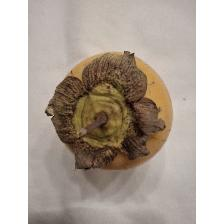Kaki: (44, 47, 176, 176)
